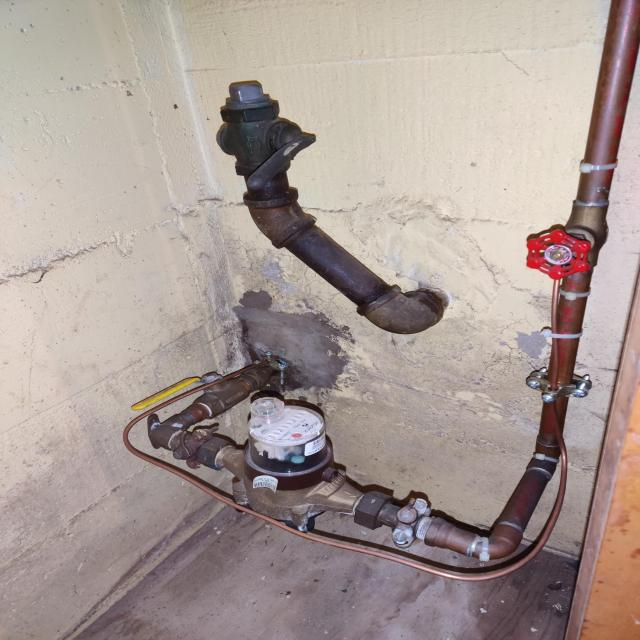Lever Handle Valve Threaded: (127, 363, 249, 430)
Wheel Handle Valve Threaded: (524, 204, 610, 290)
